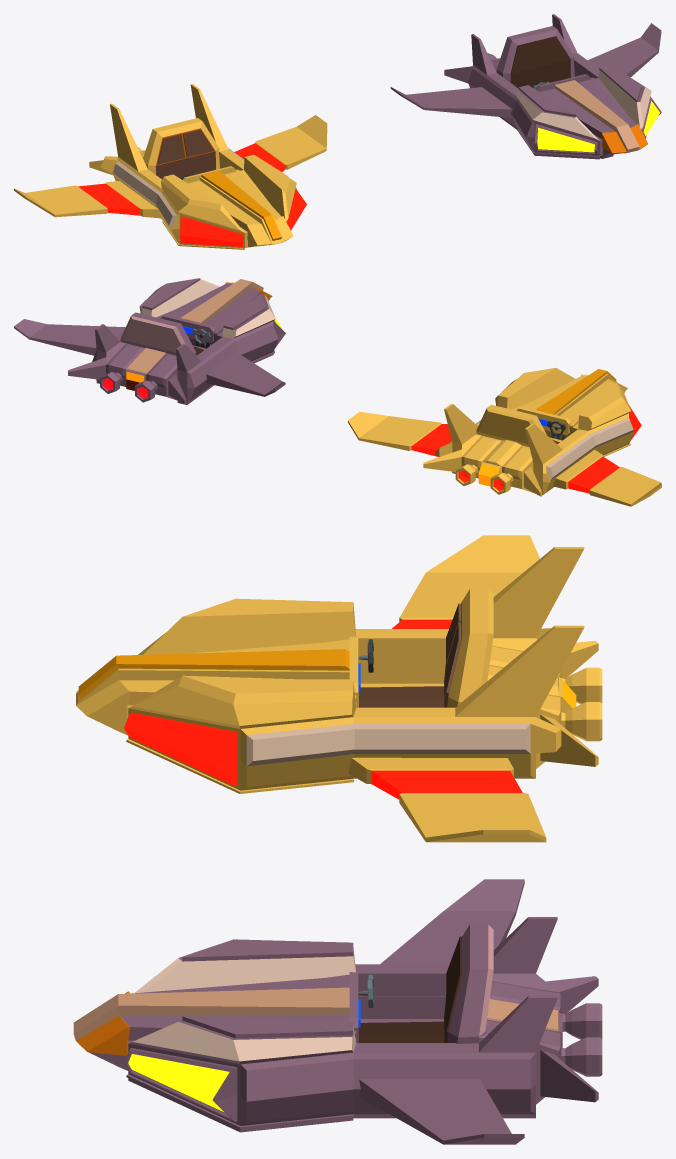
Rendered from ufo.glb.
The picture shows the model from 3 angles, top to bottom: view 1: azimuth 30°, elevation 25°; view 2: azimuth 150°, elevation 25°; view 3: azimuth 270°, elevation 25°; orthographic projection. The views are drawn at different scales.
Visible parts, largest first — view 1: Cube.002, Cube.003; view 2: Cube.002, Cube.003; view 3: Cube.002, Cube.003.
Boxes of the visible parts, x1,y1,x2,y2 form: Cube.002: [14, 84, 327, 249]; Cube.003: [390, 14, 661, 159]; Cube.002: [348, 367, 661, 506]; Cube.003: [14, 278, 285, 404]; Cube.002: [76, 535, 602, 842]; Cube.003: [73, 879, 602, 1144].
Size of the model in its own units: 12.42 by 1.47 by 4.47.
Materials: 6 (1 with a texture image).
